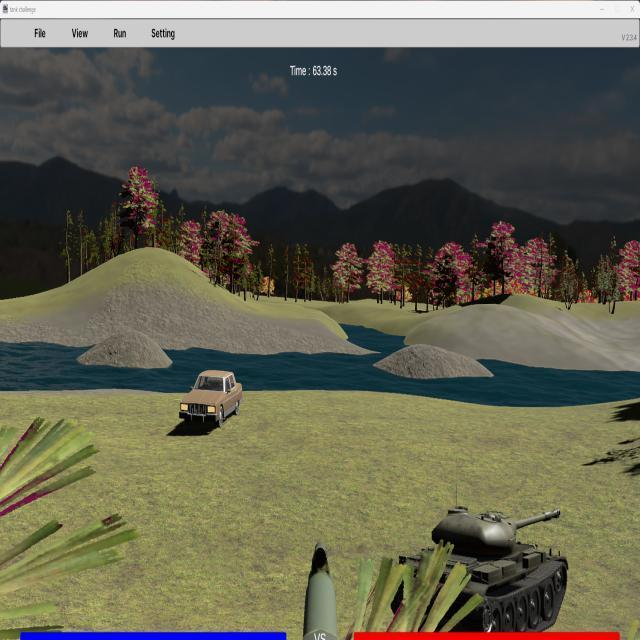Tank: (351, 504, 569, 639)
car: (178, 369, 243, 428)
